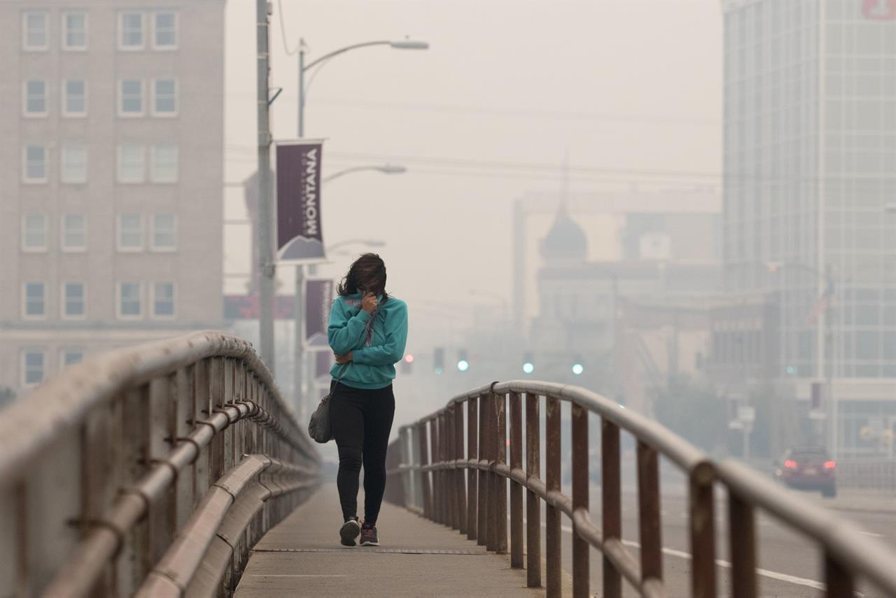car: (770, 446, 839, 499)
person: (322, 252, 412, 551)
